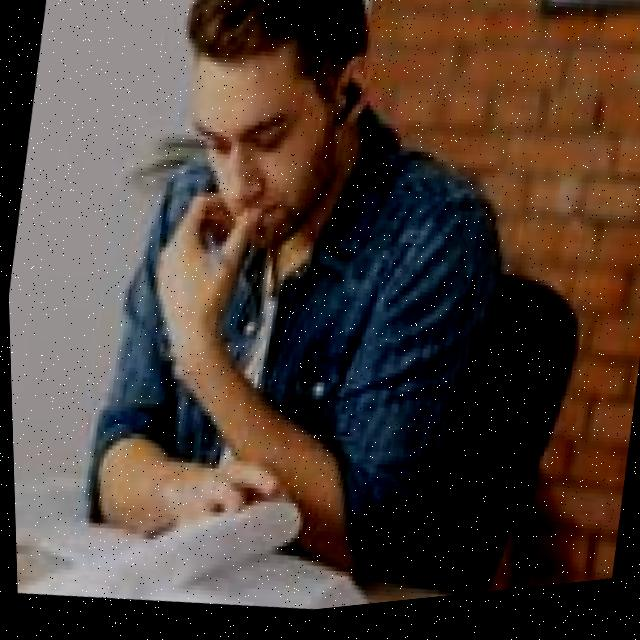studying-person: (0, 0, 566, 640)
